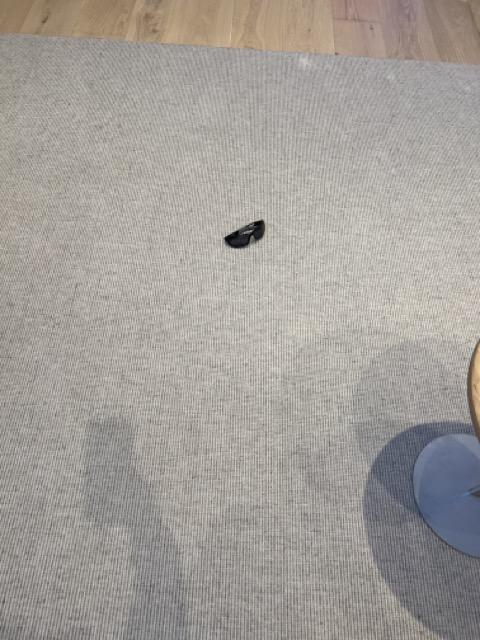Sunglasses: (224, 218, 266, 250)
